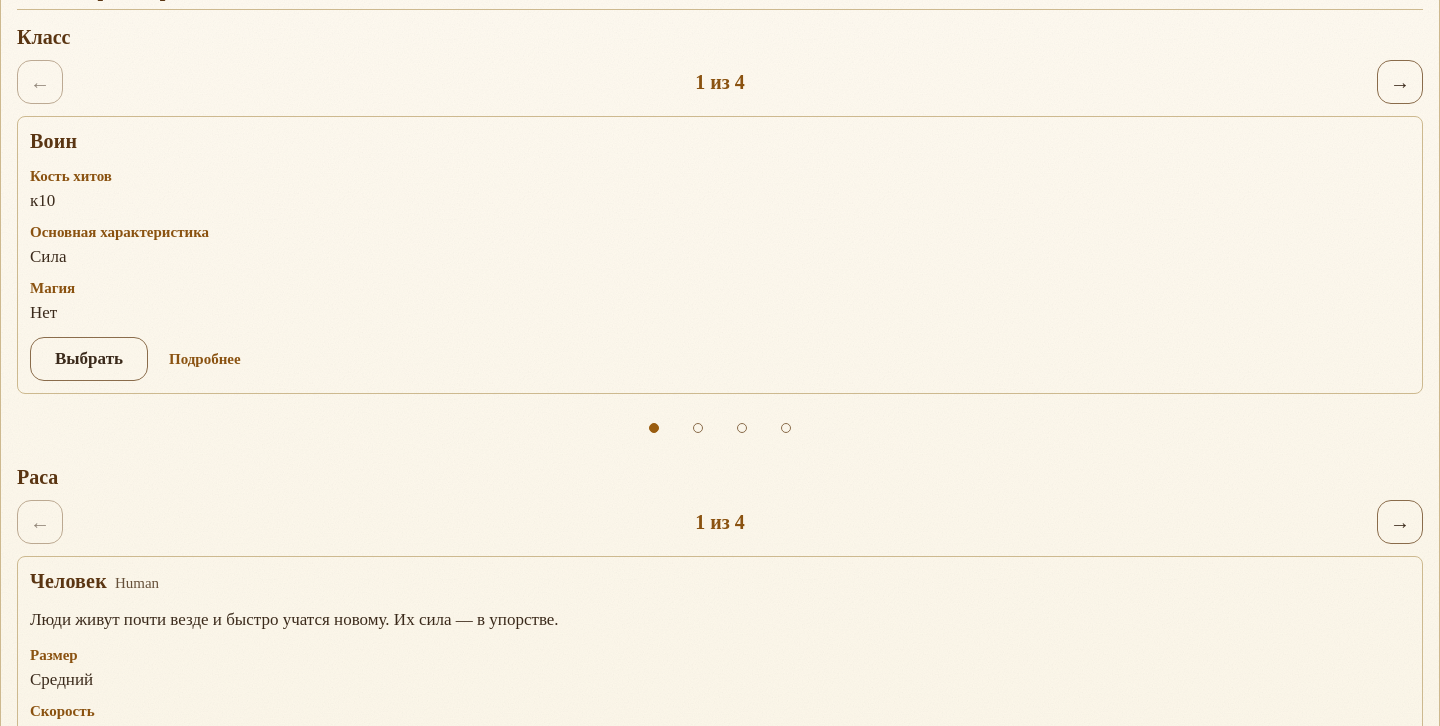
Test: форма быстрого героя › карточка класса на телефоне короткая: главное и «Выбрать», остальное — по «Подробнее»
The image size is (1440, 726).
Expected: the element that starts with "Воин" reads "Воин Кость хитов к10 Основная характеристика Сила Магия Нет Выбрать Подробнее", [17,116,1423,394]
Expected: the element that starts with "Воин" does not show "Доспехи", [17,116,1423,394]
Click the button with aria-label "Подробнее: Воин". click: (205, 359)
box: [156,337,254,381]
(page scrolled)
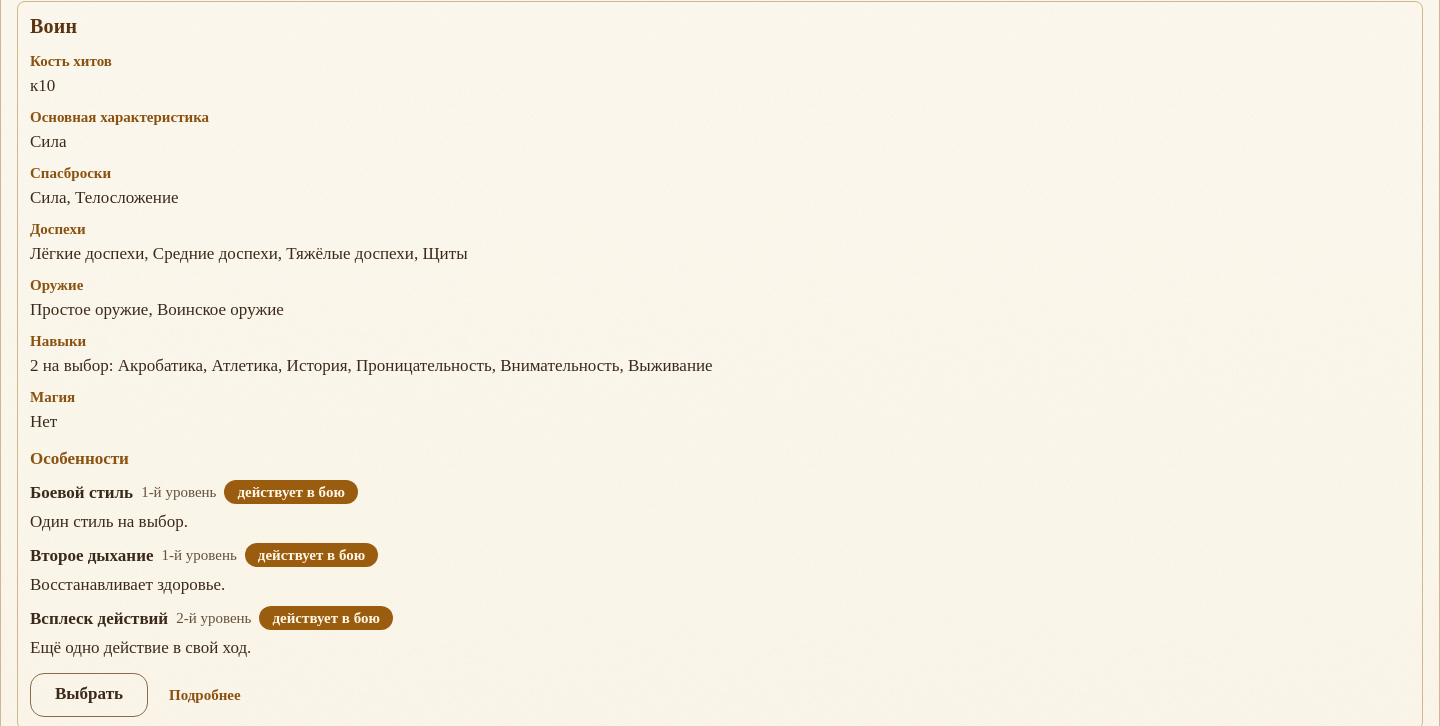
Result: the button with aria-label "Подробнее: Воин" is expanded at [156,672,254,716]
Result: the element that starts with "Воин" shows "Второе дыхание" at [30,546,154,564]
